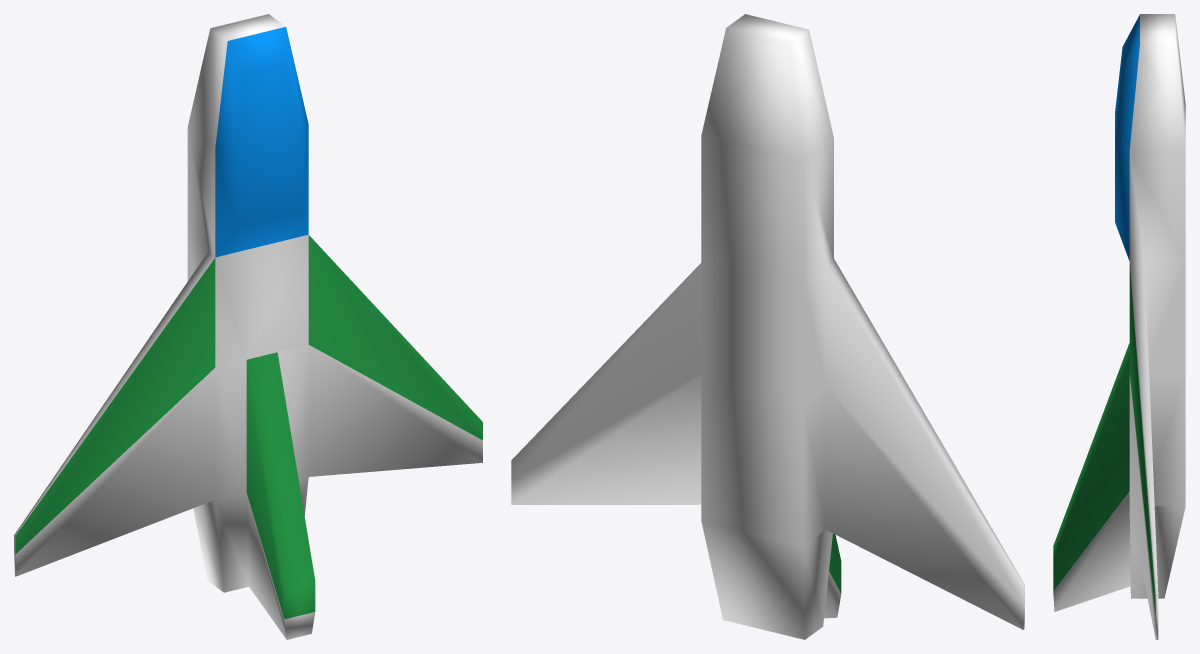
File: ship.fbx
3 views of the same model, side by side, from view 1: azimuth 30°, elevation 25°; view 2: azimuth 150°, elevation 25°; view 3: azimuth 270°, elevation 25° (orthographic). The views are drawn at different scales.
Parts seen in each view (by area): view 1: cube1; view 2: cube1; view 3: cube1.
Boxes of the visible parts, bbox=[...] form: cube1: bbox=[14, 14, 482, 639]; cube1: bbox=[511, 14, 1024, 639]; cube1: bbox=[1053, 14, 1185, 639].
Bounding box in the file's own units: 1.28 × 1.5 × 0.312.
1 material, 1 textured.
